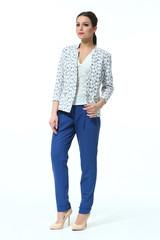Human: (45, 7, 113, 232)
